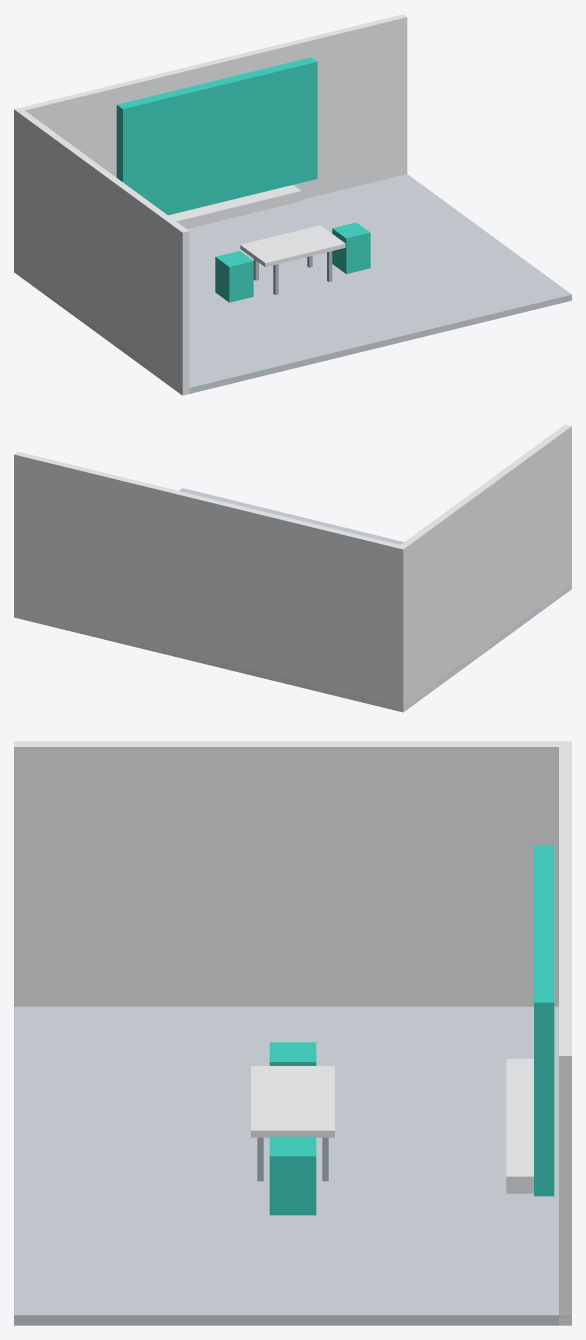
The picture shows the model from 3 angles, top to bottom: view 1: azimuth 30°, elevation 25°; view 2: azimuth 150°, elevation 25°; view 3: azimuth 270°, elevation 25°; orthographic projection. The views are drawn at different scales.
Visible parts, largest first — view 1: Exhibition Booth Concept; view 2: Exhibition Booth Concept; view 3: Exhibition Booth Concept.
Part boxes in pixels (x1,y1,x2,y2): Exhibition Booth Concept: (14,14,571,395); Exhibition Booth Concept: (14,424,571,712); Exhibition Booth Concept: (14,741,571,1325).
Bounding box in the file's own units: 8 × 3.2 × 6.
